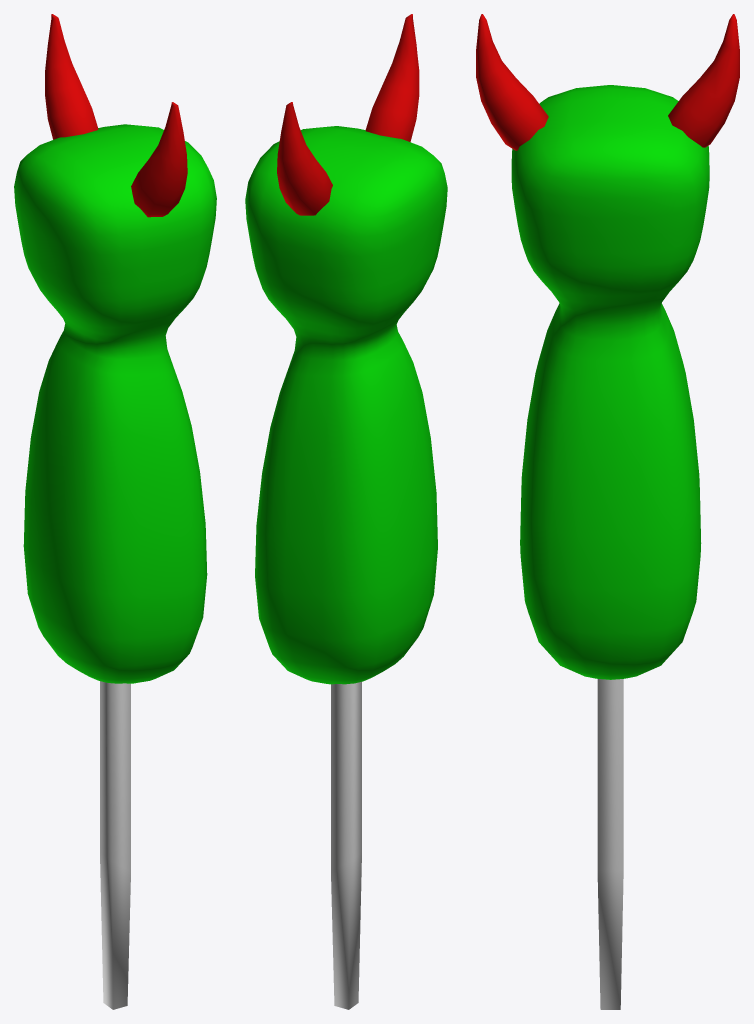
File: Dummy.fbx
The picture shows the model from 3 angles, left to right: view 1: azimuth 30°, elevation 25°; view 2: azimuth 150°, elevation 25°; view 3: azimuth 270°, elevation 25°; orthographic projection. The views are drawn at different scales.
Visible parts, largest first — view 1: Dummy Base, Dummy Stand; view 2: Dummy Base, Dummy Stand; view 3: Dummy Base, Dummy Stand.
Boxes of the visible parts, bbox=[...] form: Dummy Base: bbox=[14, 14, 216, 683]; Dummy Stand: bbox=[100, 681, 130, 1009]; Dummy Base: bbox=[245, 14, 447, 684]; Dummy Stand: bbox=[331, 681, 361, 1009]; Dummy Base: bbox=[476, 14, 739, 679]; Dummy Stand: bbox=[597, 679, 623, 1009].
Bounding box in the file's own units: 171 × 961 × 232.
